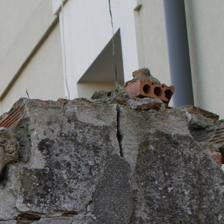Crack: (55, 53, 76, 115)
